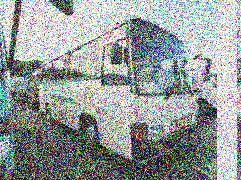bus: (36, 16, 199, 167)
